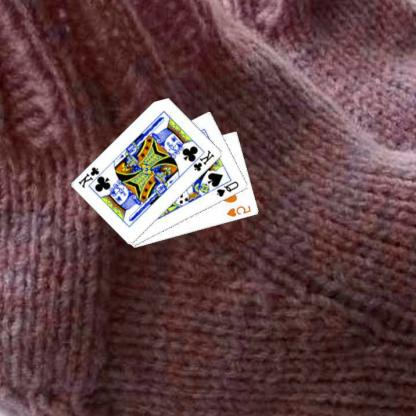5H: (226, 203, 254, 218)
KC: (78, 164, 107, 190), (188, 148, 217, 172)
QS: (216, 178, 242, 198)
